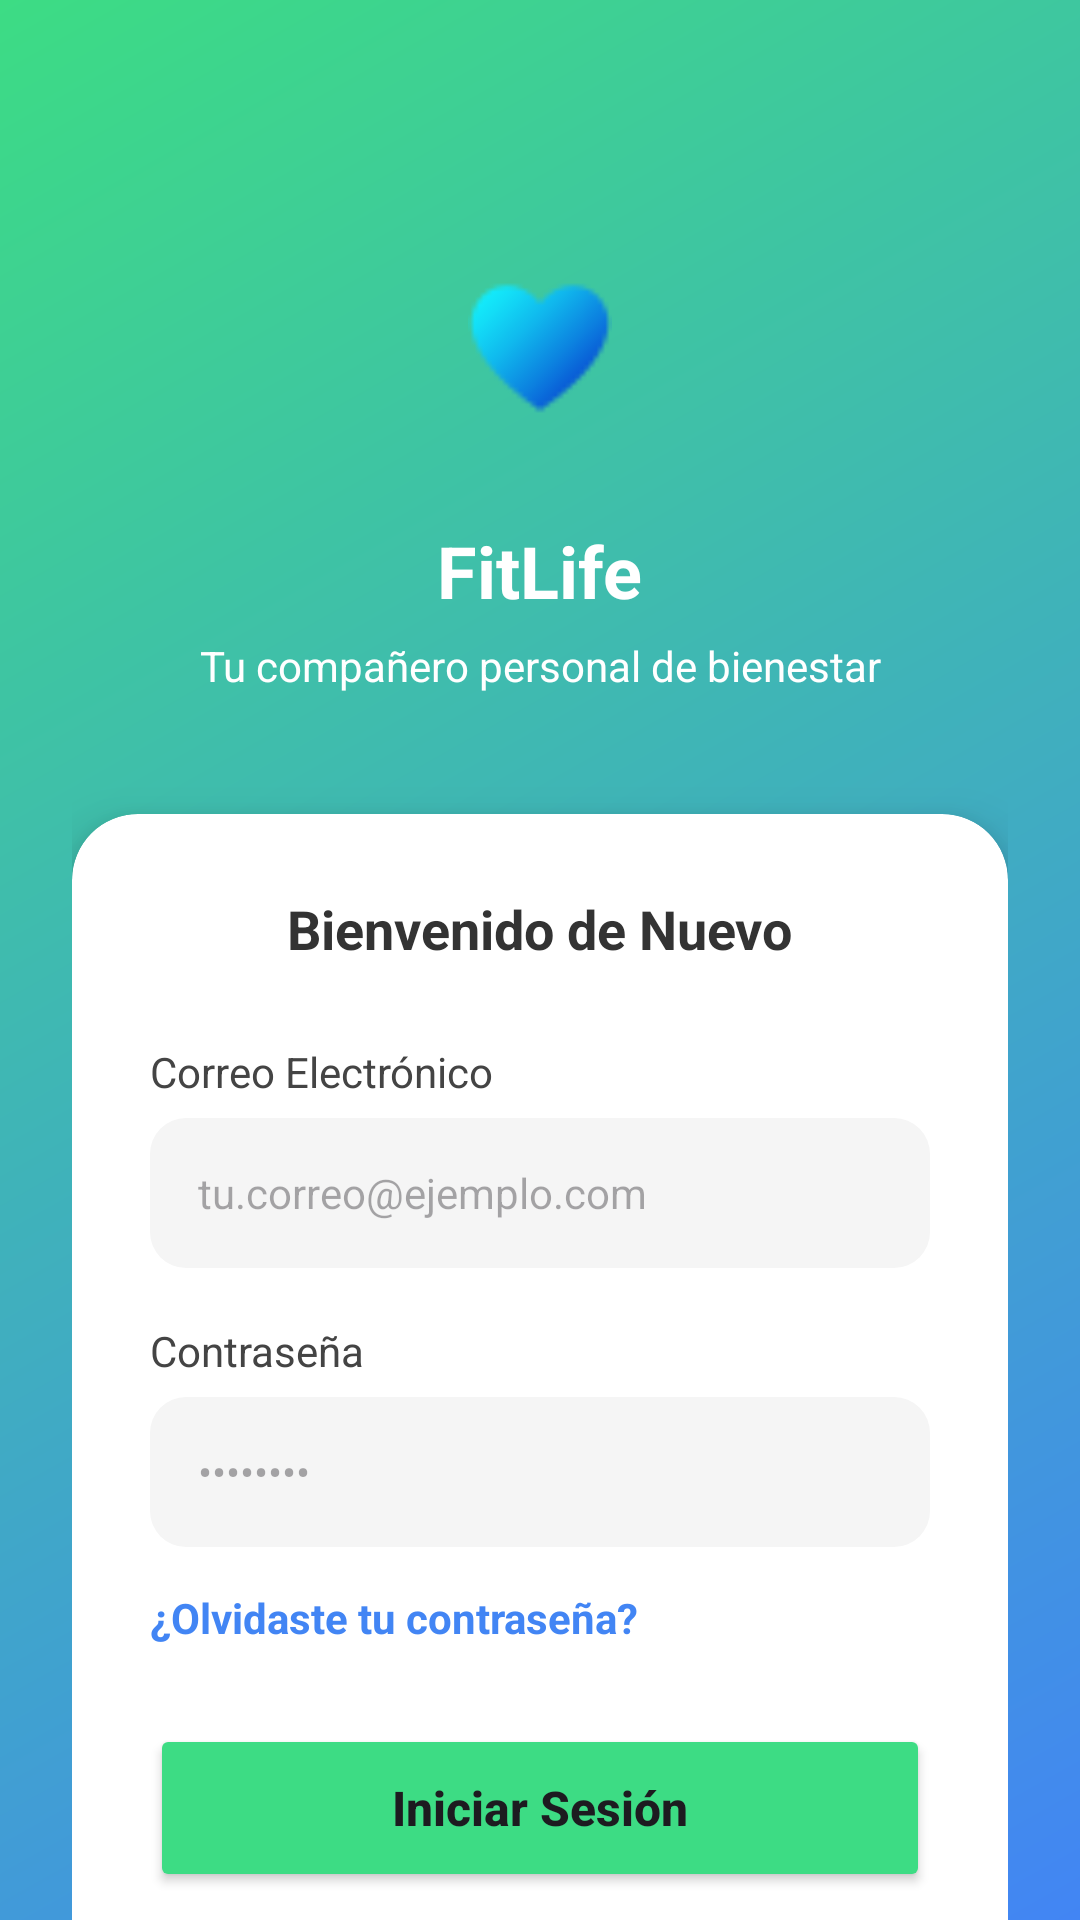

Icon bounding boxes for this 1080px x 1920px phone screenshot, format (x1, y1, x2, y2):
heart: (471, 285, 609, 411)
